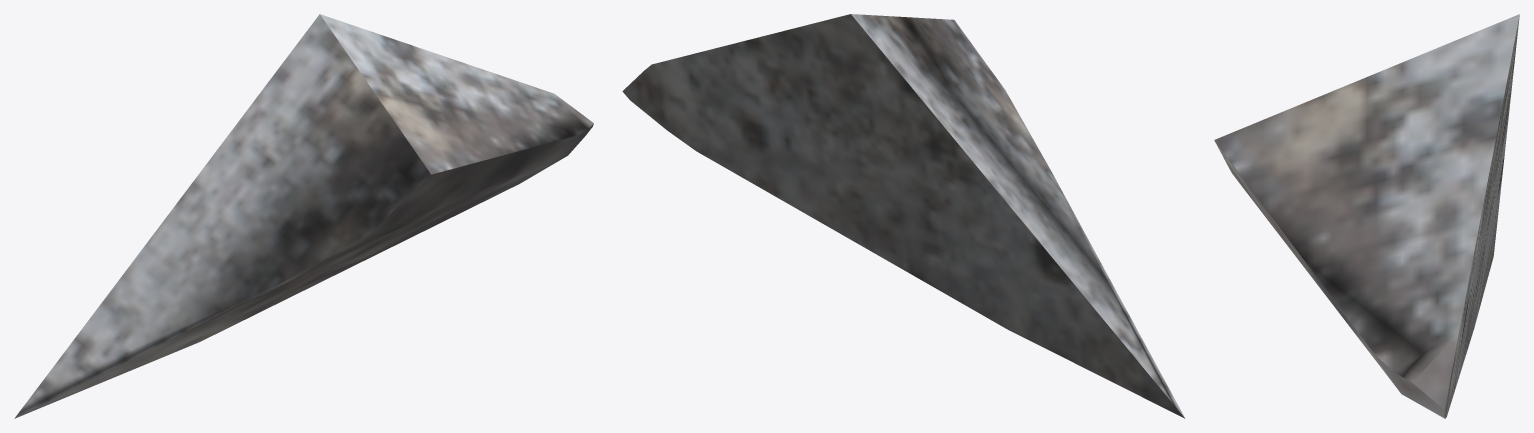
Rendered from Asteroid_Large_001_02_004_03_007.fbx.
3 renders of one model, left to right at view 1: azimuth 30°, elevation 25°; view 2: azimuth 150°, elevation 25°; view 3: azimuth 270°, elevation 25°, orthographic. The views are drawn at different scales.
Visible parts, largest first — view 1: Asteroid_Large_001_02_004_03_007; view 2: Asteroid_Large_001_02_004_03_007; view 3: Asteroid_Large_001_02_004_03_007.
Boxes of the visible parts, <box> form: Asteroid_Large_001_02_004_03_007: <box>14,14,593,418</box>; Asteroid_Large_001_02_004_03_007: <box>622,14,1185,418</box>; Asteroid_Large_001_02_004_03_007: <box>1214,14,1519,418</box>.
Size of the model in its own units: 4.87 by 2.66 by 1.59.
